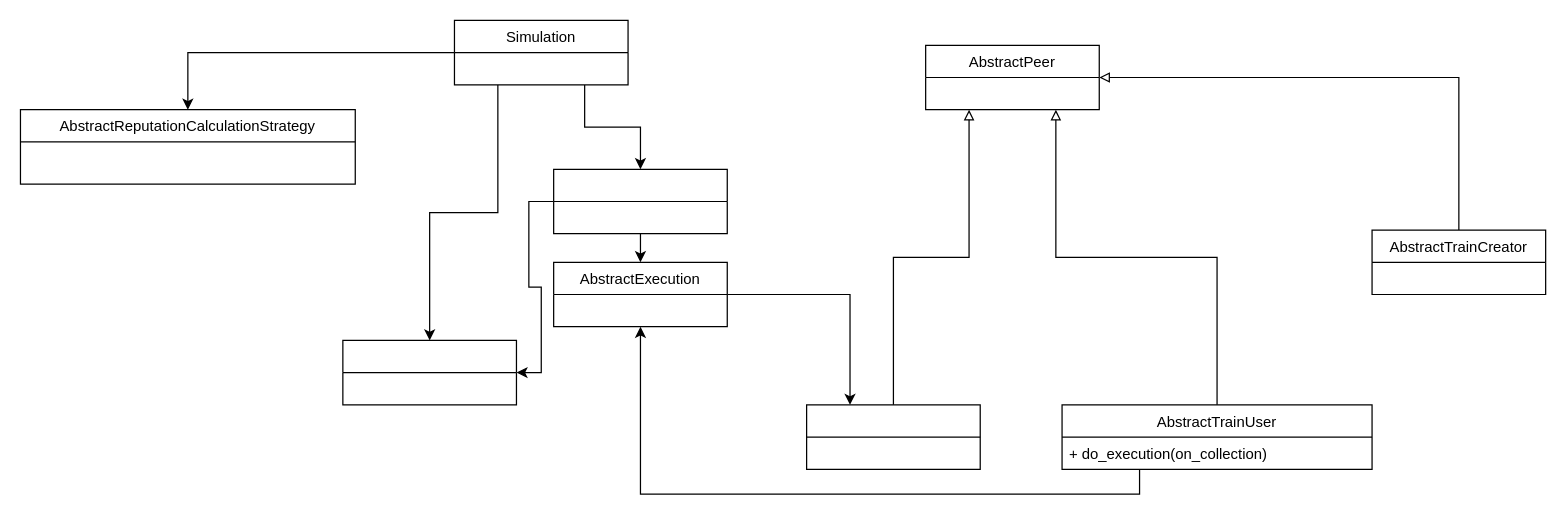
The diagram is 1566 pixels wide and 515 high, and some of its shapes have lost their labels. Here are the shapes that lost their labels. From the top down, the centre of each, then its label:
At [639,201]: "SimulationCycle".
At [429,372]: "PeerCollection".
At [892,436]: "AbstractStation".
